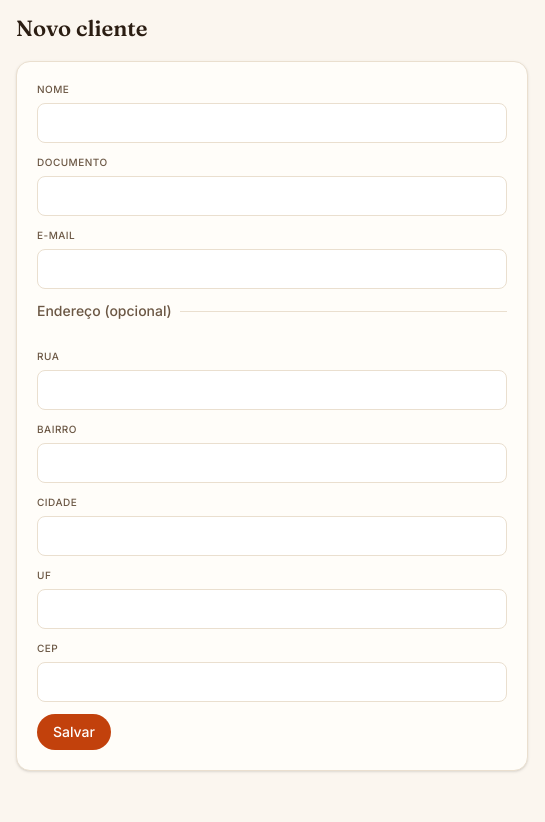
it: NewCustomerPage › aDuplicateShowsTheExistingCustomer
Step 1. Type "Ana Lima" into the field labelled "Nome" → (272, 123), box [37, 103, 507, 143]
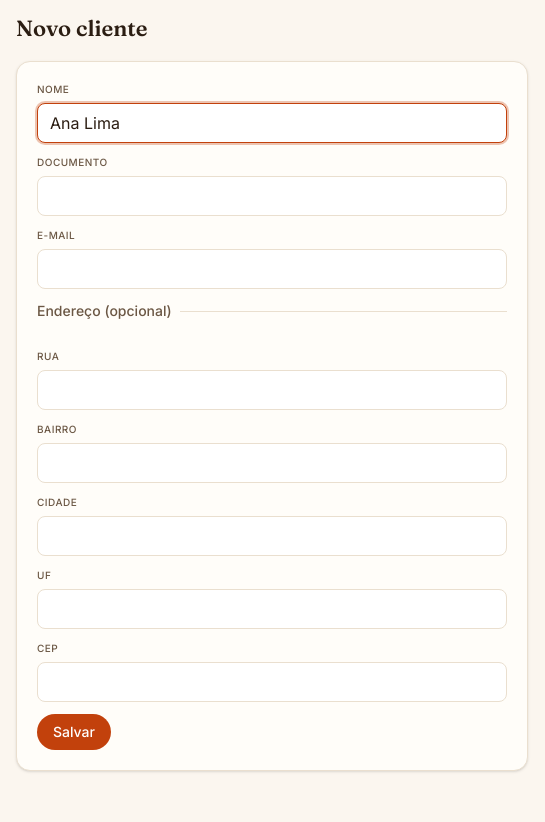
Step 2. Type "12345678909" into the field labelled "Documento" → (272, 196), box [37, 176, 507, 216]
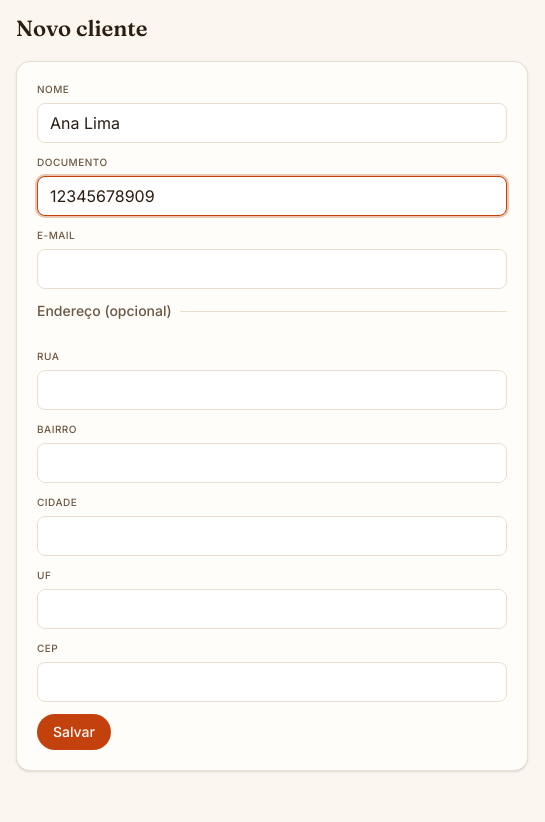
Step 3. Click the button "Salvar" → (74, 732), box [37, 714, 111, 750]
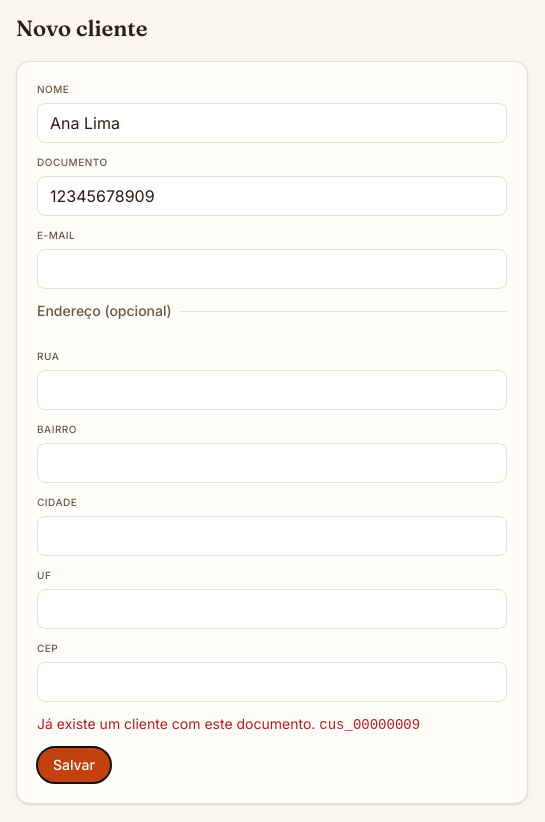
Check: the text "Já existe um cliente com este documento." is shown, box [37, 715, 315, 732]
Check: the text "cus_00000009" is shown, box [319, 717, 420, 733]
